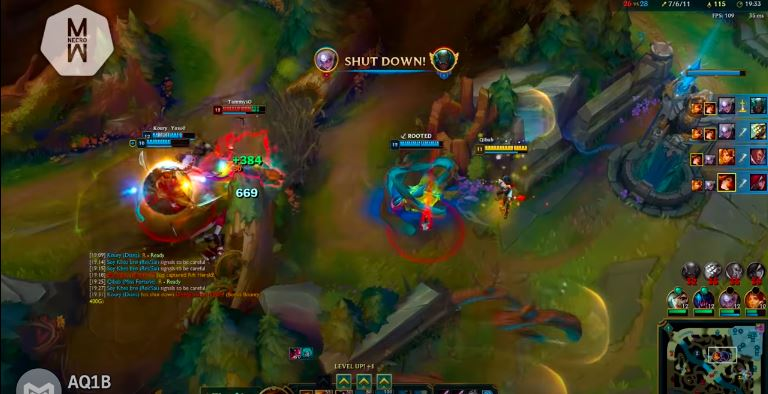bar: (209, 102, 268, 116), (473, 142, 533, 155), (143, 129, 199, 142), (388, 138, 446, 150), (135, 137, 192, 149)
